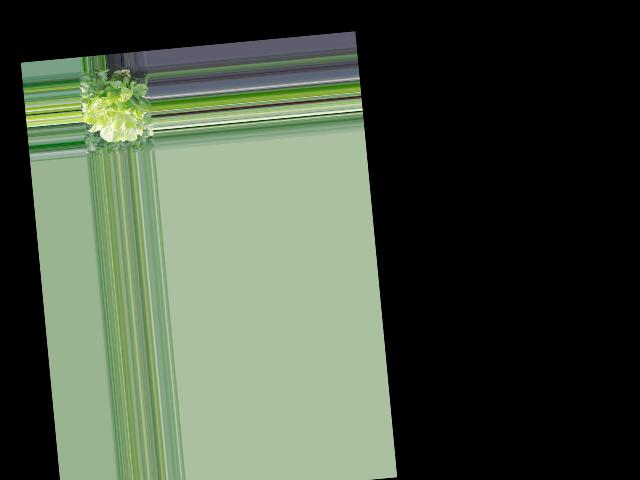lettuce: (86, 79, 152, 143)
